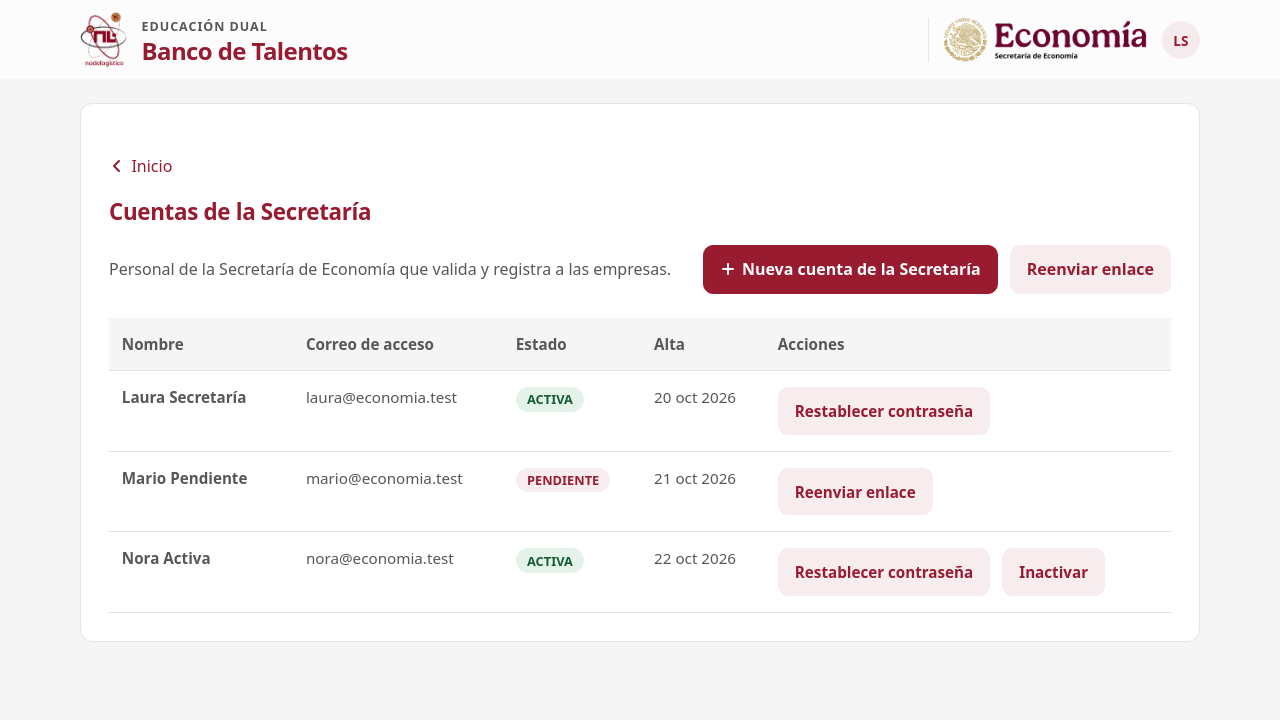
cuentas de la Secretaría HU-S4-01 › estado y restablecimiento HU-S6-04 › inicia el restablecimiento tras confirmar e informa el envío o el límite (CA-02, CA-04)
This screenshot has width=1280, height=720.
Click the button with aria-label "Restablecer la contraseña de Nora Activa".
click(884, 572)  # box [778,548,990,596]
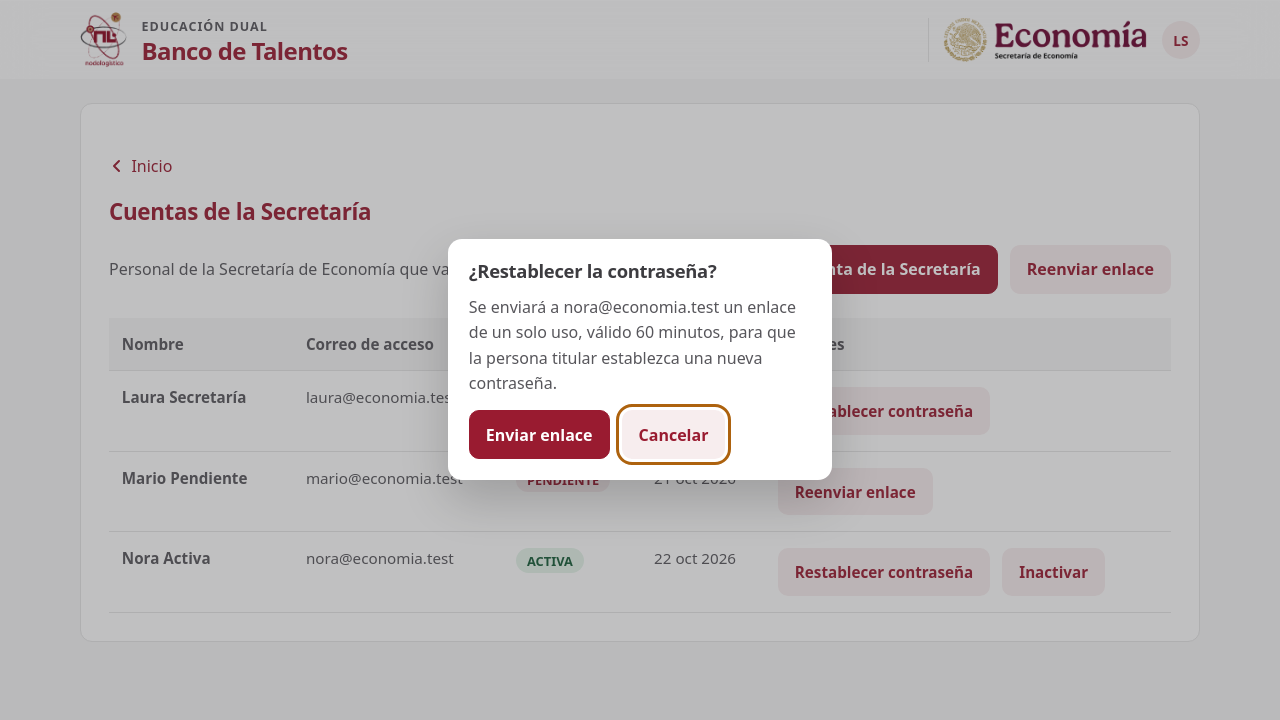
Now the dialog "¿Restablecer la contraseña?" shows "nora@economia.test", box [469,296,796,395]
Click the button "Enviar enlace".
click(539, 435)  # box [469,410,610,460]
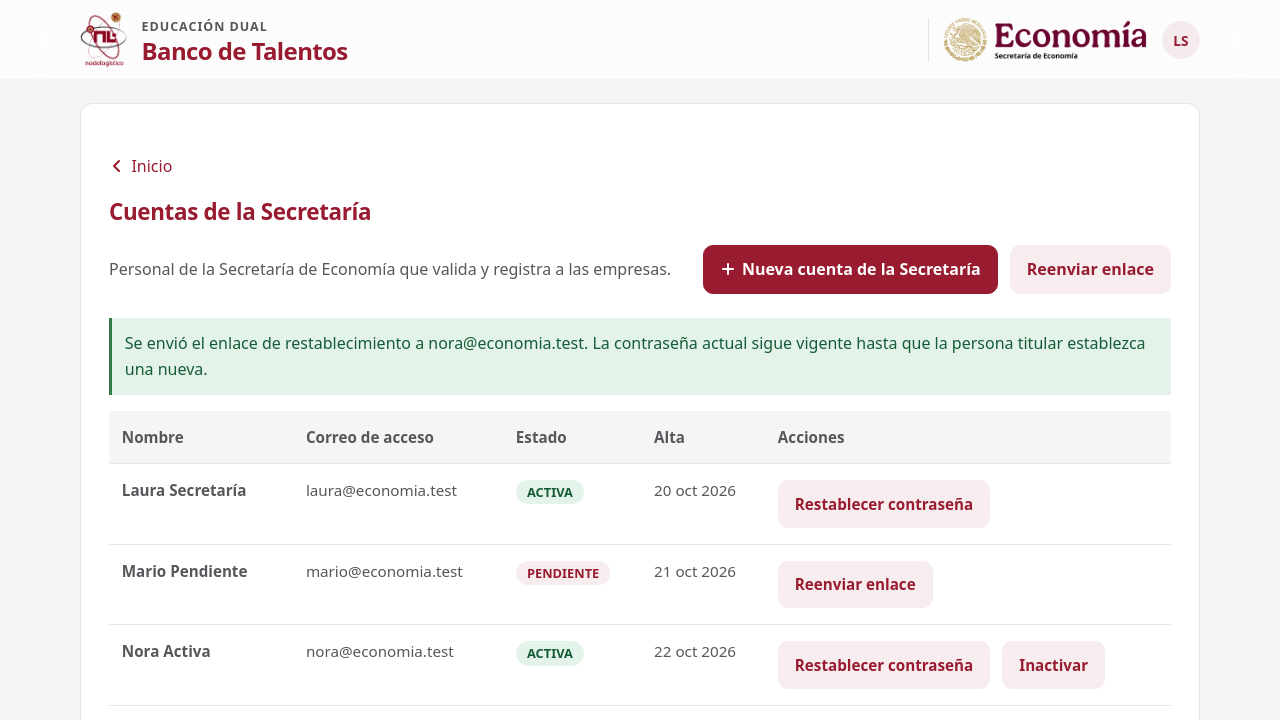
Now the text "Se envió el enlace de restablecimiento a nora@economia.test" is shown, box [125,332,1146,380]
Click the button with aria-label "Restablecer la contraseña de Nora Activa".
click(884, 665)  # box [778,641,990,689]
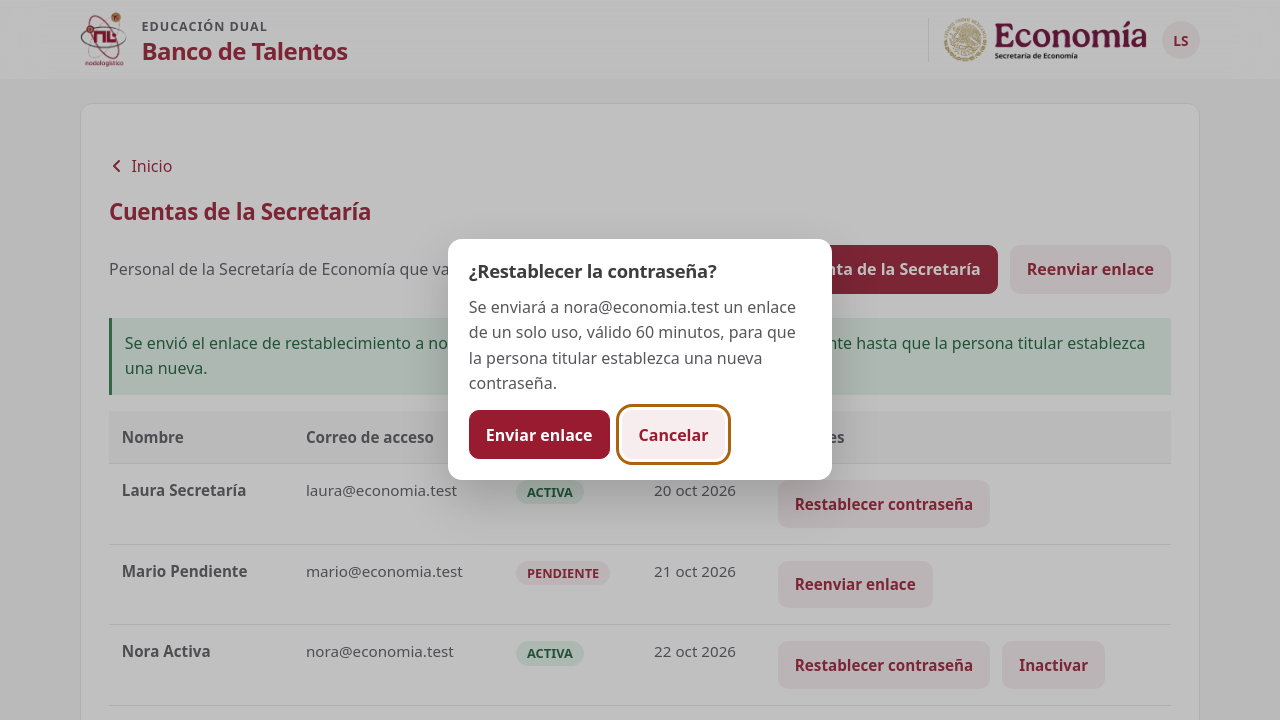
Click the button "Enviar enlace".
click(539, 435)  # box [469,410,610,460]
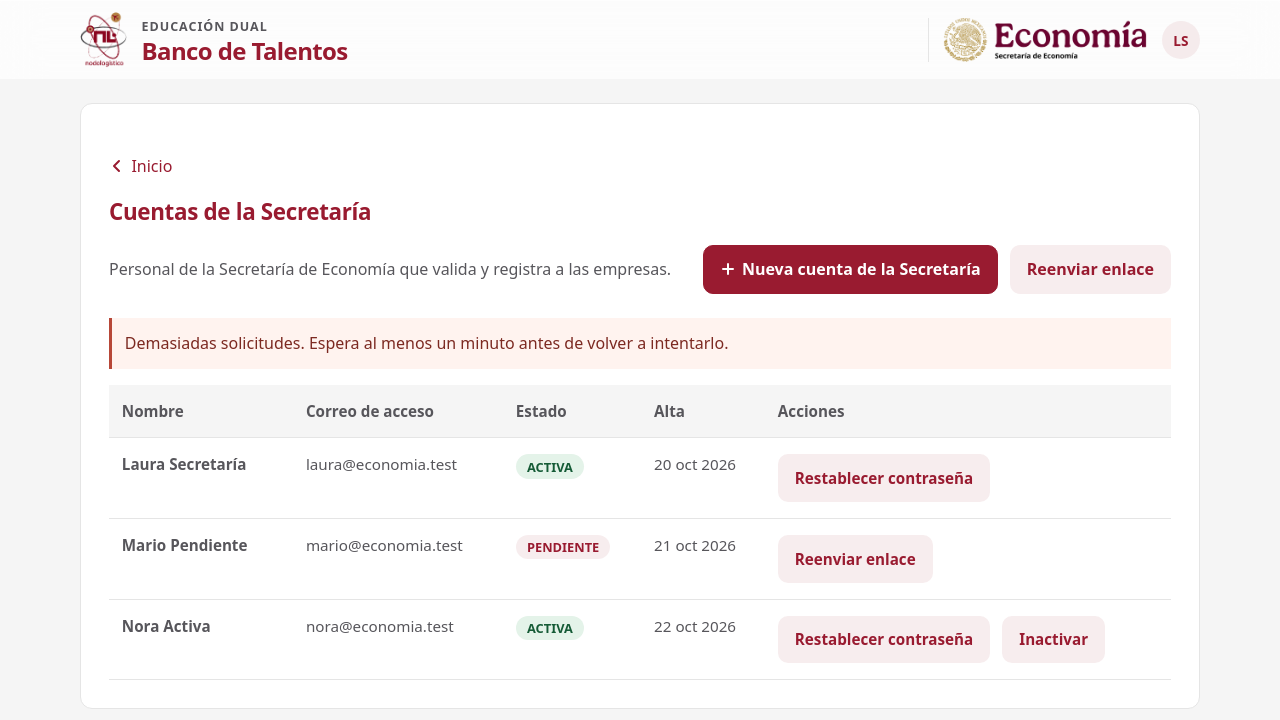
Now the message shows "Espera al menos un minuto", box [125,332,728,354]
